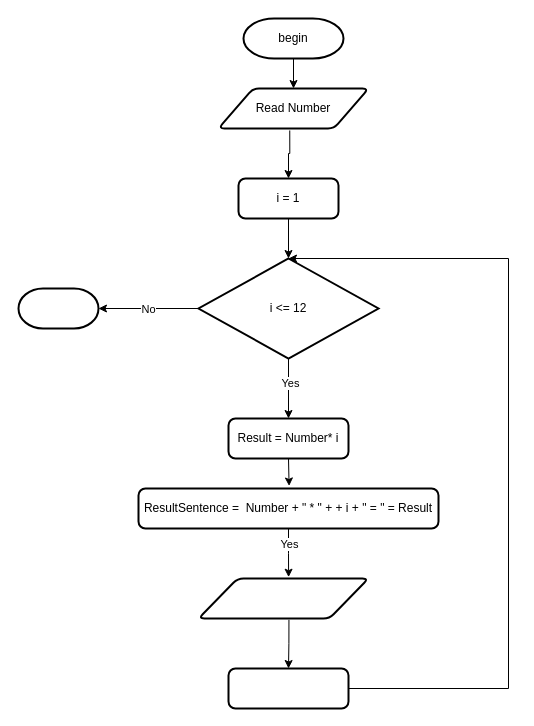
The diagram is 534 pixels wide and 726 high, and some of its shapes have lost their labels. Each missing label, with the box of its shape:
End: (17, 287, 99, 329)
i++: (227, 667, 349, 709)
Print ResultSentence: (197, 577, 369, 619)
